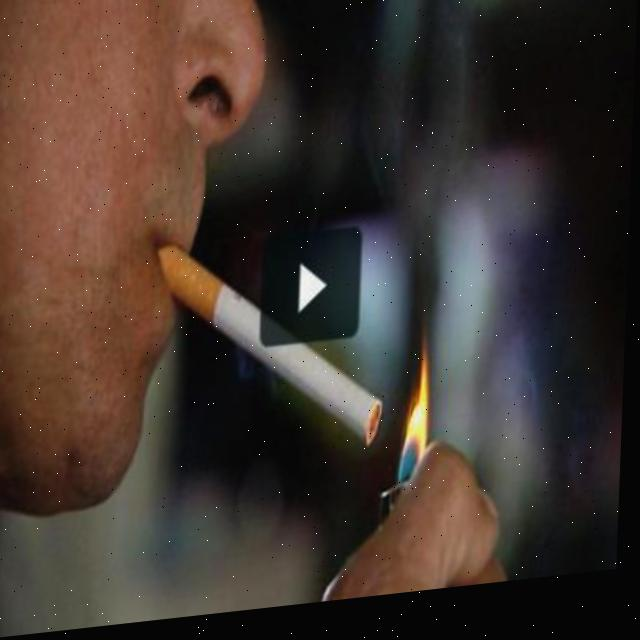cigarette: (154, 229, 392, 476)
